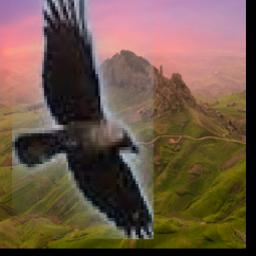Crow: (13, 0, 155, 240)
